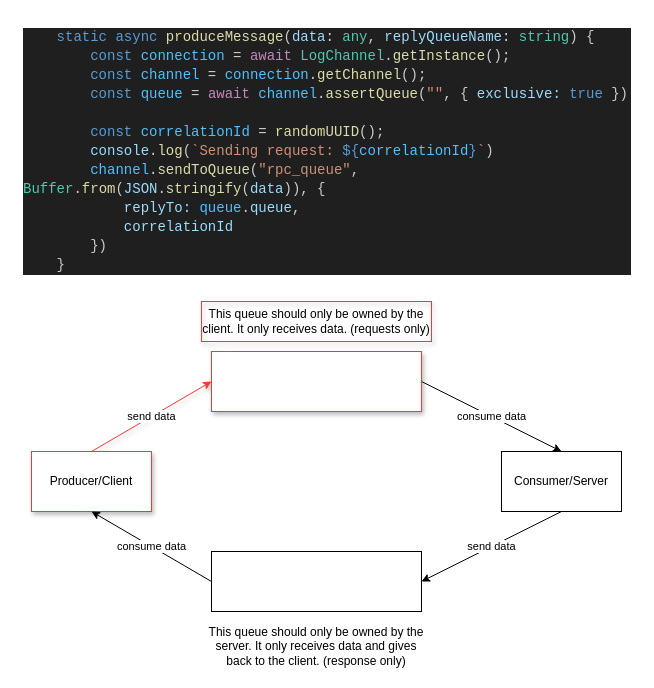
Image size: 654x688. Some labels were removed from this diagram. The shapes that lost their labels are listed below. From the top down, each one's centre as x and y in pixels, then its label:
At (317,382): "rpc_queue".
At (316,581): "{ replyTo : queue . queue , correlationId }".
